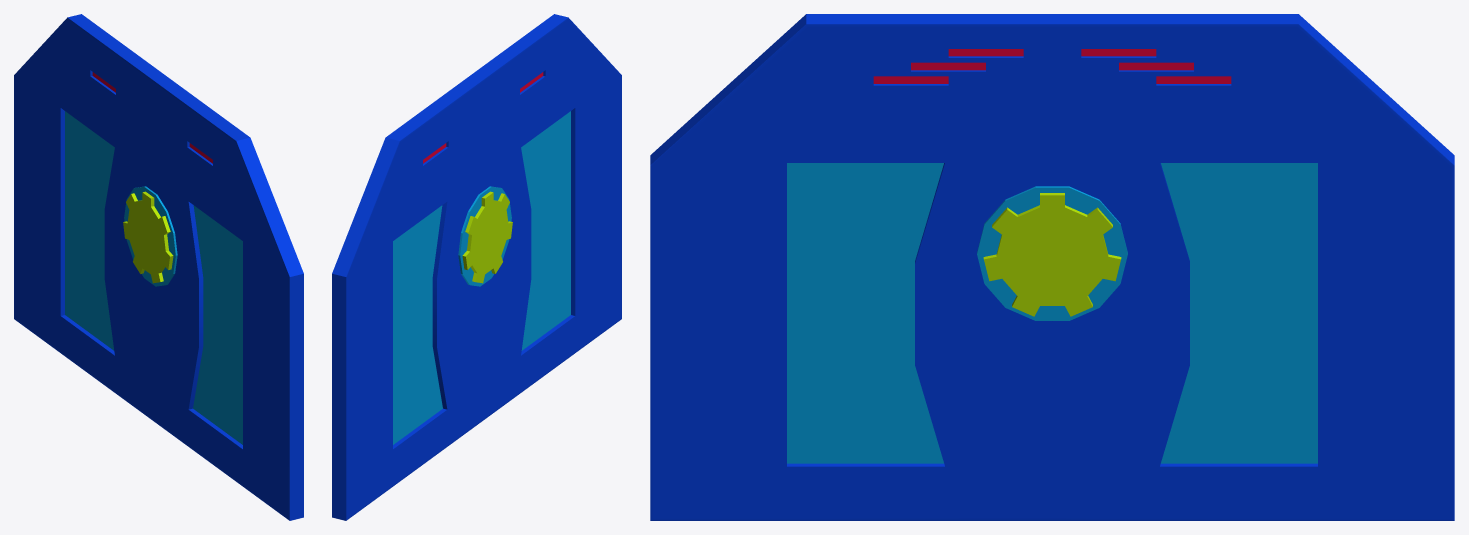
Rendered from scifidoor3 - cool.fbx.
3 views of the same model, side by side, from view 1: azimuth 30°, elevation 25°; view 2: azimuth 150°, elevation 25°; view 3: azimuth 270°, elevation 25° (orthographic). The views are drawn at different scales.
Visible parts, largest first — view 1: DoorL, DoorR, Gear; view 2: DoorR, DoorL, Gear; view 3: DoorL, DoorR, Gear.
Part boxes in pixels (x1,y1,x2,y2): DoorL: (151,76,303,520); DoorR: (14,14,165,419); Gear: (123,186,177,286); DoorR: (332,76,484,520); DoorL: (470,14,621,419); Gear: (458,186,512,286); DoorL: (650,14,1052,520); DoorR: (1052,14,1454,520); Gear: (977,186,1127,320).
Size of the model in its own units: 26.33 by 346 by 508.
